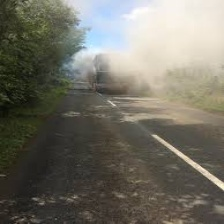smoke: (103, 2, 220, 90)
